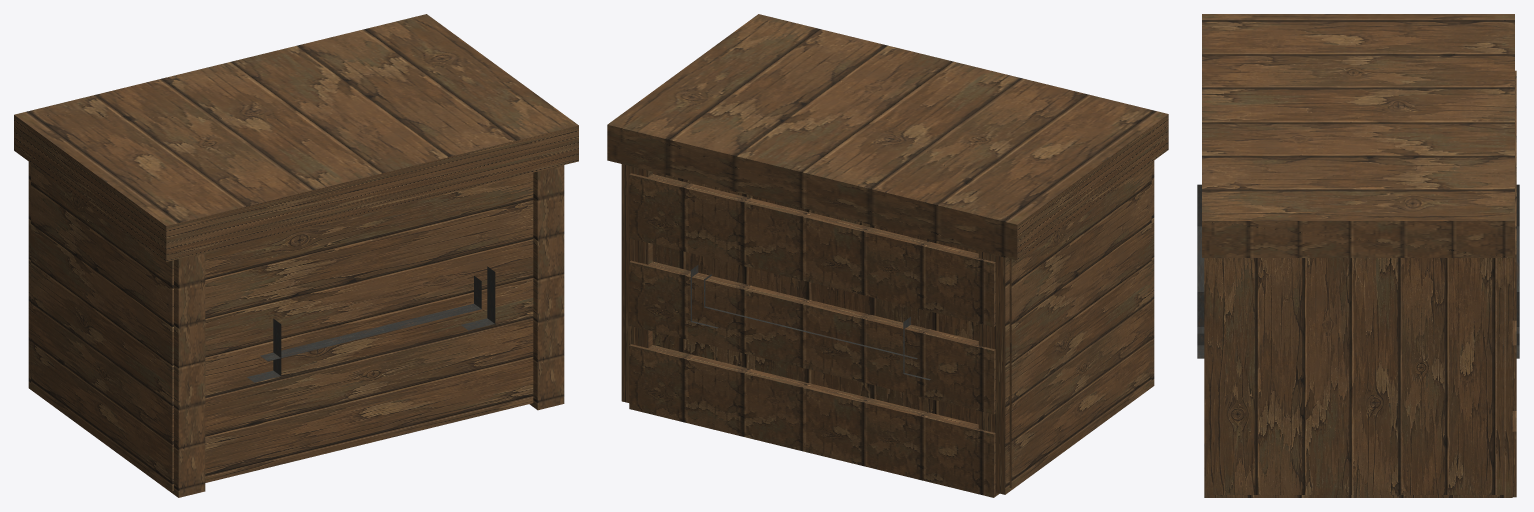
Rendered from PRP_HEAVY_CRATE_001.obj.
The picture shows the model from 3 angles, left to right: view 1: azimuth 30°, elevation 25°; view 2: azimuth 150°, elevation 25°; view 3: azimuth 270°, elevation 25°; orthographic projection. The views are drawn at different scales.
Visible parts, largest first — view 1: CrateBody, LidClosed, CornerBrace, BroadCarryHandle, HandleMount; view 2: LidClosed, CrateBody, FrontSlat_0.08, FrontSlat_0.51, FrontSlat_0.29, CornerBrace; view 3: LidClosed, CrateBody, CornerBrace, BroadCarryHandle, HandleMount, FrontSlat_0.51, FrontSlat_0.29, FrontSlat_0.08.
Part boxes in pixels (left/top/right/bottom): CrateBody: left=31, top=163, right=533, bottom=491; LidClosed: left=14, top=14, right=578, bottom=261; CornerBrace: left=28, top=162, right=564, bottom=497; BroadCarryHandle: left=260, top=276, right=481, bottom=361; HandleMount: left=247, top=266, right=495, bottom=382; LidClosed: left=607, top=14, right=1168, bottom=260; CrateBody: left=652, top=162, right=1151, bottom=488; FrontSlat_0.08: left=629, top=344, right=999, bottom=497; FrontSlat_0.51: left=629, top=173, right=995, bottom=326; FrontSlat_0.29: left=629, top=260, right=995, bottom=414; CornerBrace: left=621, top=160, right=1154, bottom=494; LidClosed: left=1202, top=14, right=1514, bottom=257; CrateBody: left=1213, top=258, right=1503, bottom=494; CornerBrace: left=1204, top=258, right=1512, bottom=497; BroadCarryHandle: left=1197, top=197, right=1519, bottom=333; HandleMount: left=1197, top=184, right=1519, bottom=358; FrontSlat_0.51: left=1512, top=70, right=1516, bottom=320; FrontSlat_0.29: left=1512, top=320, right=1516, bottom=410; FrontSlat_0.08: left=1512, top=411, right=1516, bottom=497.
Bounding box in the file's own units: 1.08 × 0.7 × 0.71.
2 materials, 2 textured.
